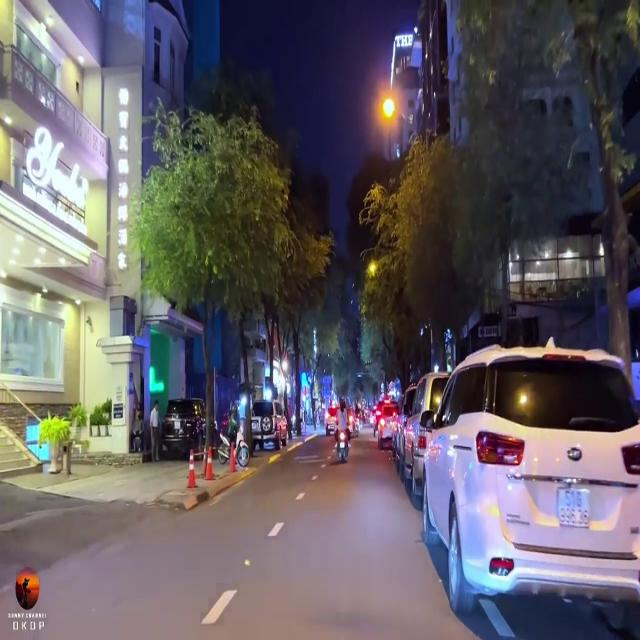bien_trang: (555, 488, 589, 525)
